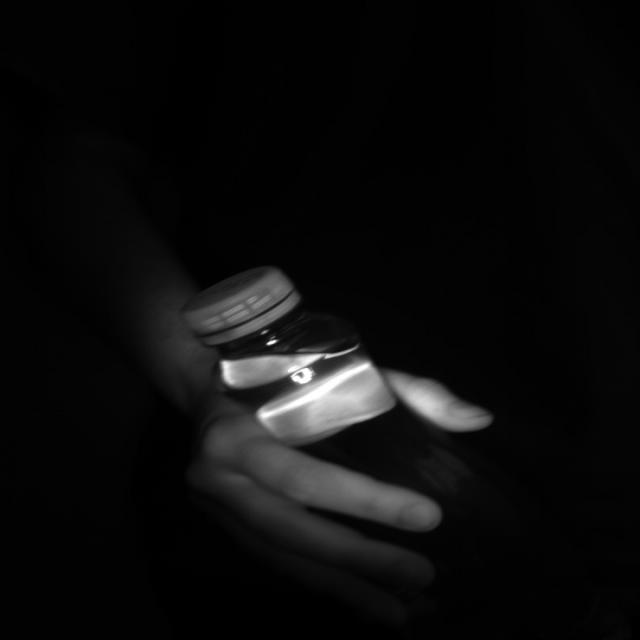Not Good: (185, 266, 298, 344)
